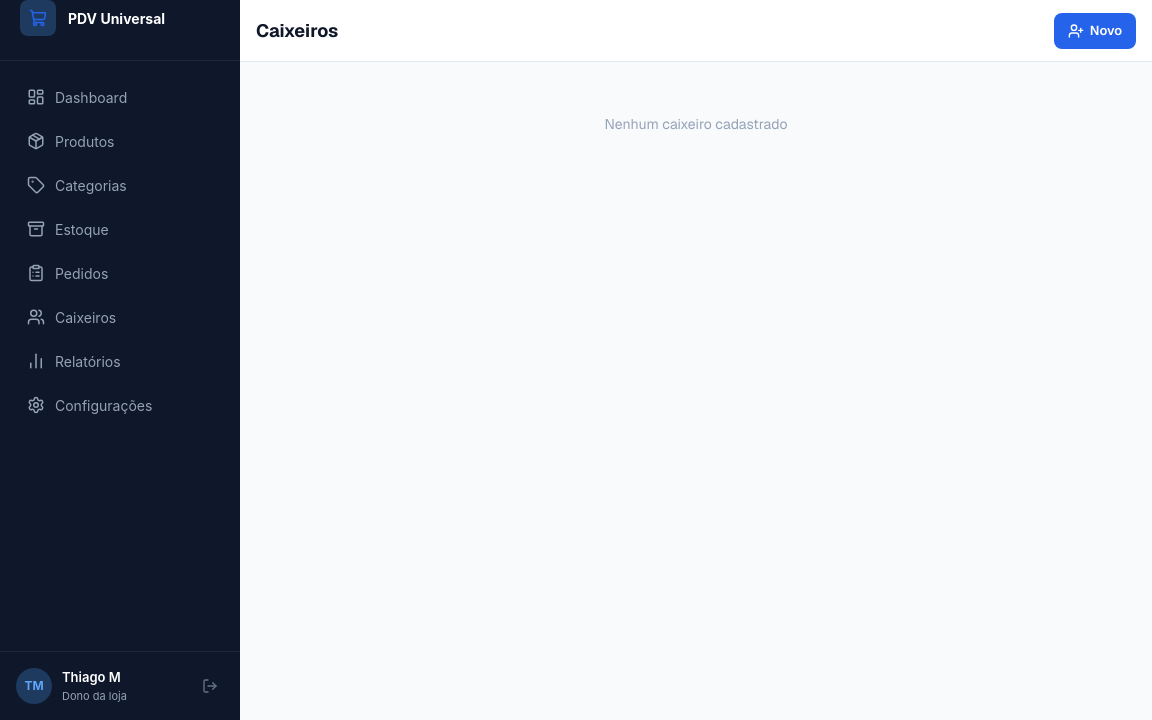
Test: UsuariosPage › closes the sheet when the close button is clicked
Click the button "Novo" at (1095, 30), box [1054,12,1136,48]
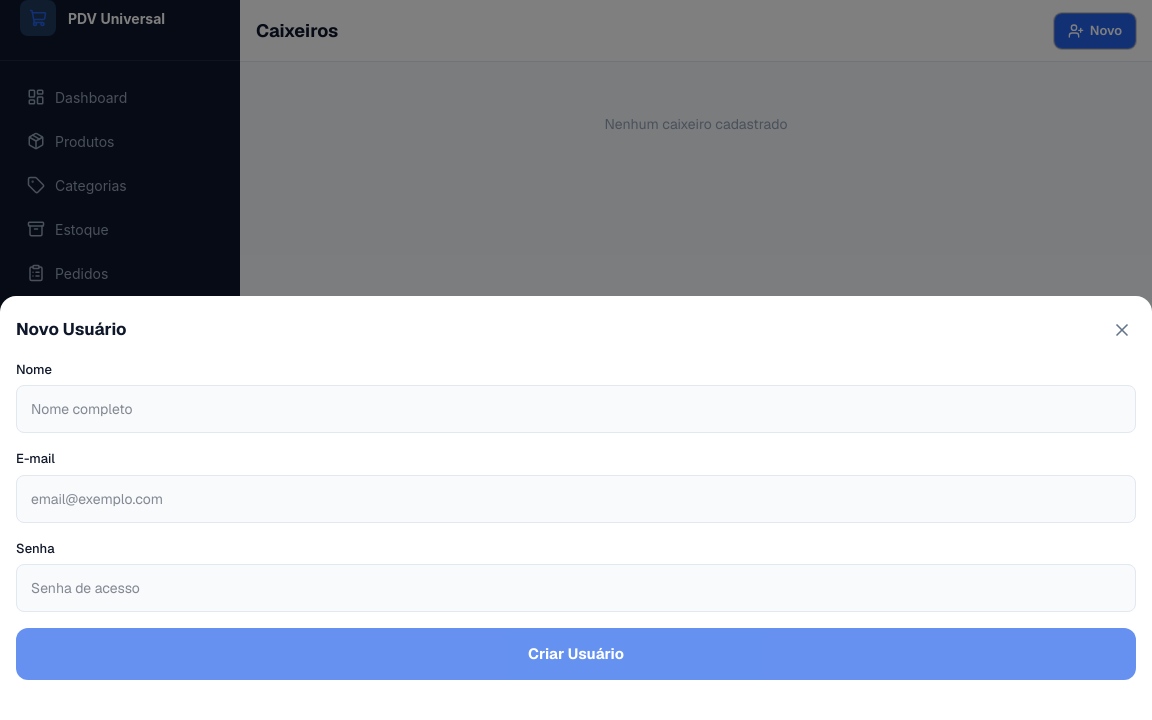
Click the button named "fechar" at (1122, 330), box [1108,316,1136,344]
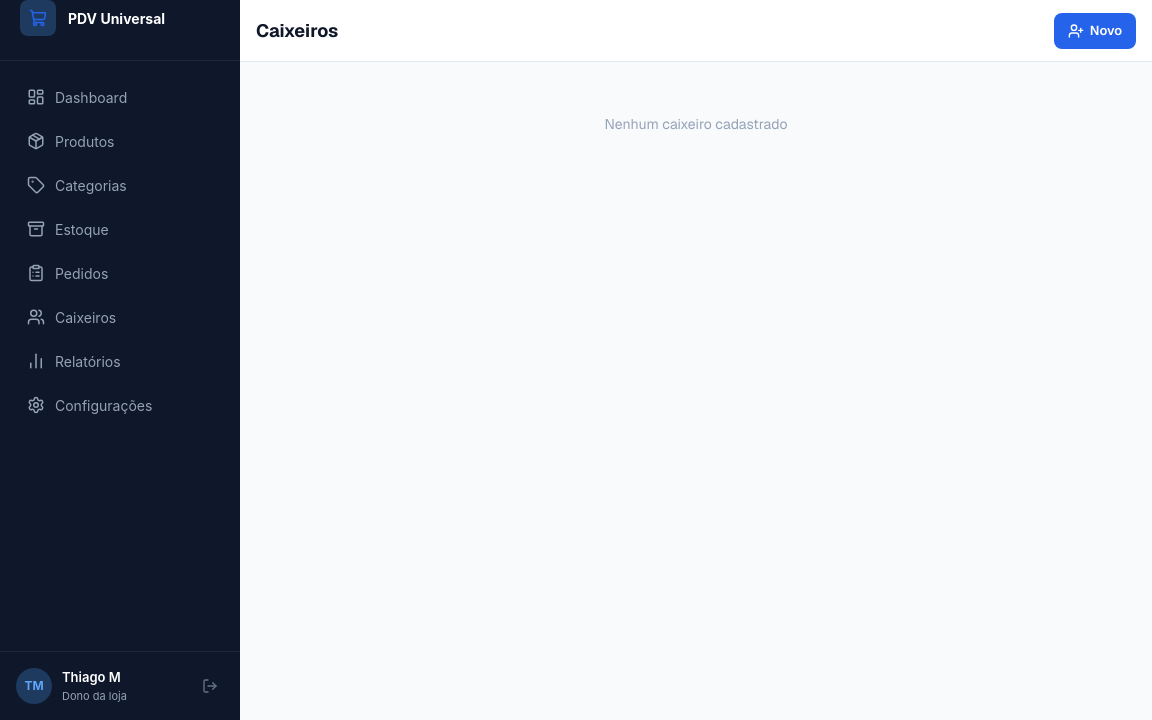
Expected: the text "Novo Usuário" is gone
